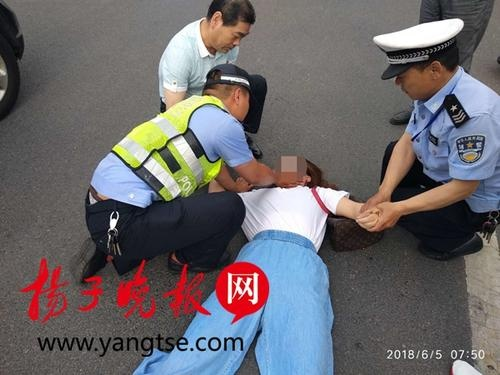falling: (106, 143, 390, 375)
